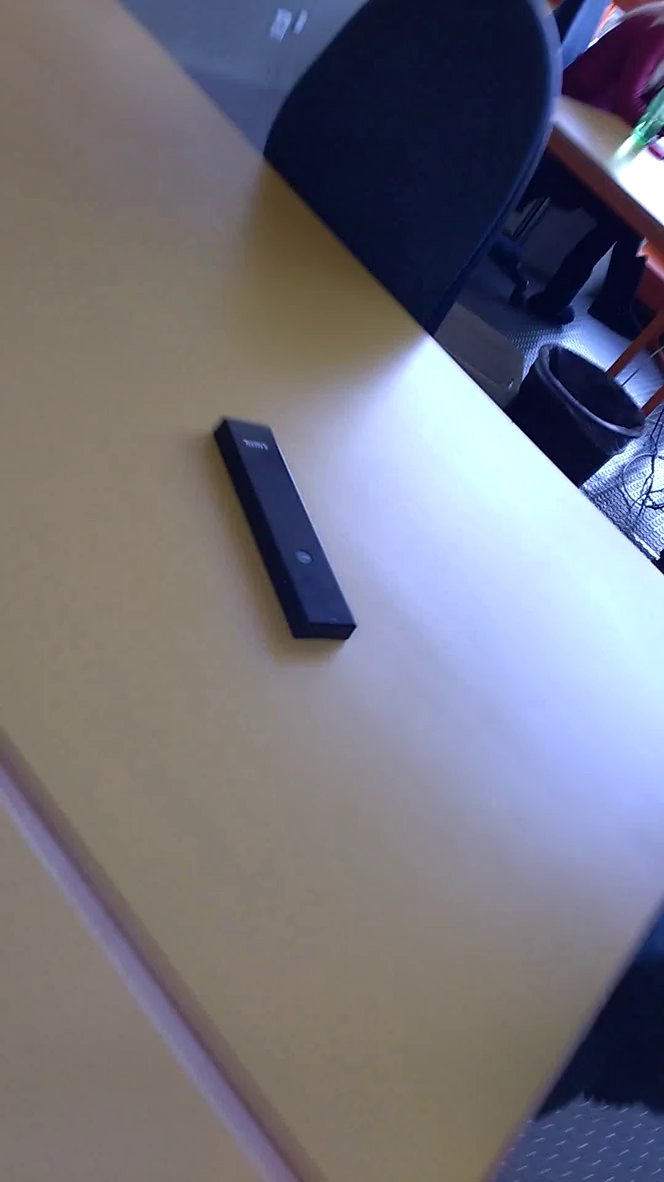bin: (507, 324, 653, 523)
chair: (247, 1, 566, 372)
remote: (196, 406, 370, 656)
